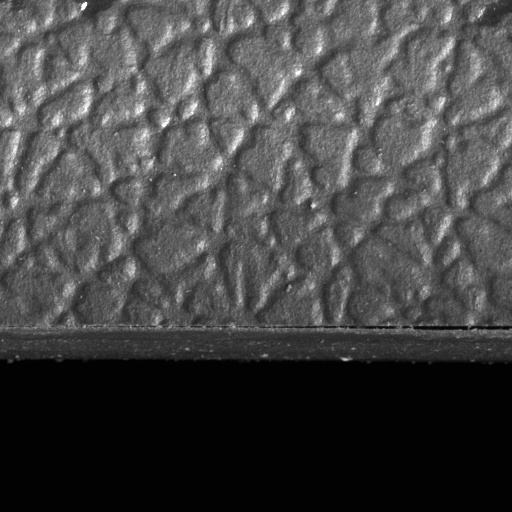jiaofeng: (318, 320, 511, 344)
